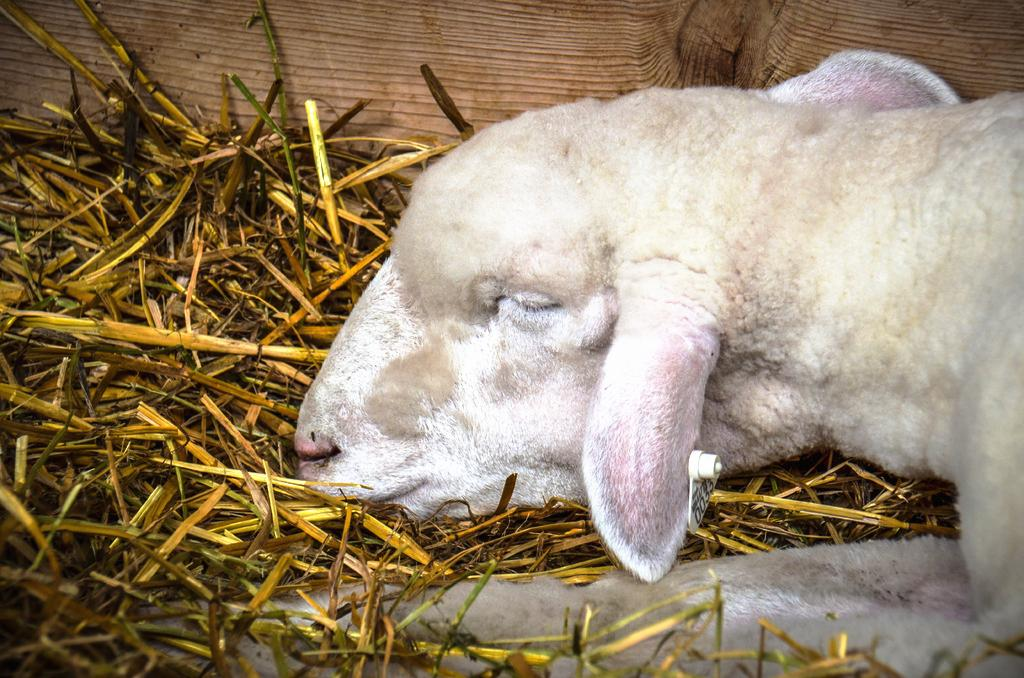Sheep: (280, 53, 1020, 677)
